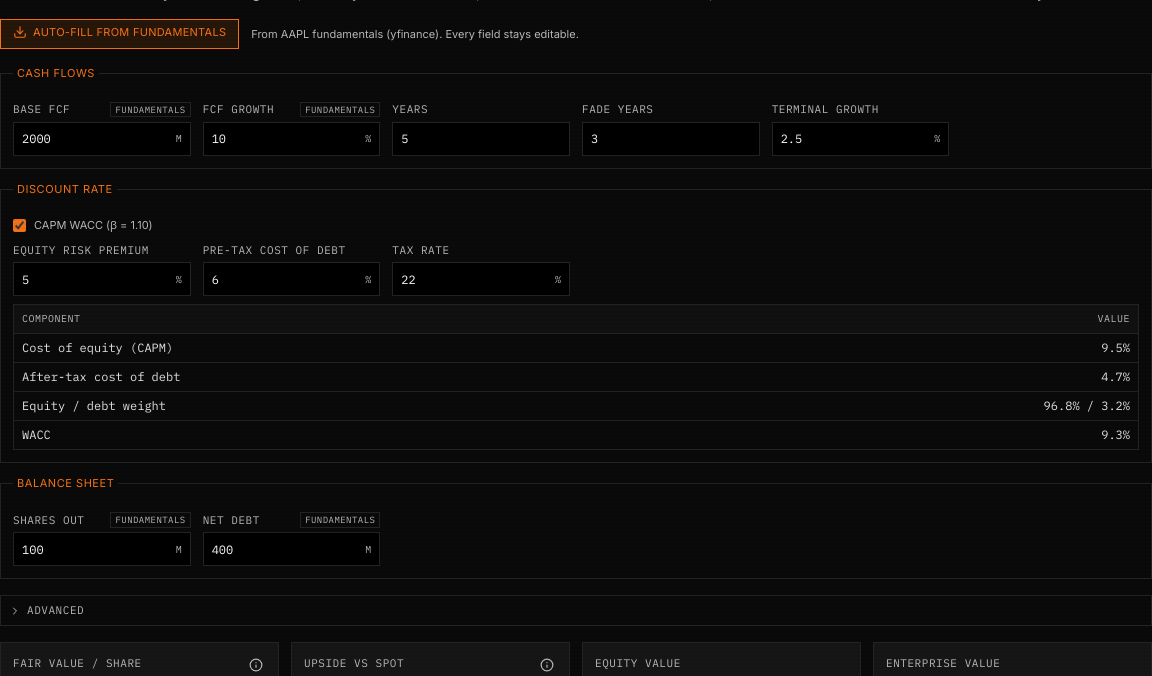
Test: ValuationSection › warns when the terminal value dominates
Expected: the text "Fair Value / Share" is shown, [13, 655, 142, 671]
Replace the text in the number field labelled "Years" with "1" at point(481, 139), box [393, 123, 569, 155]
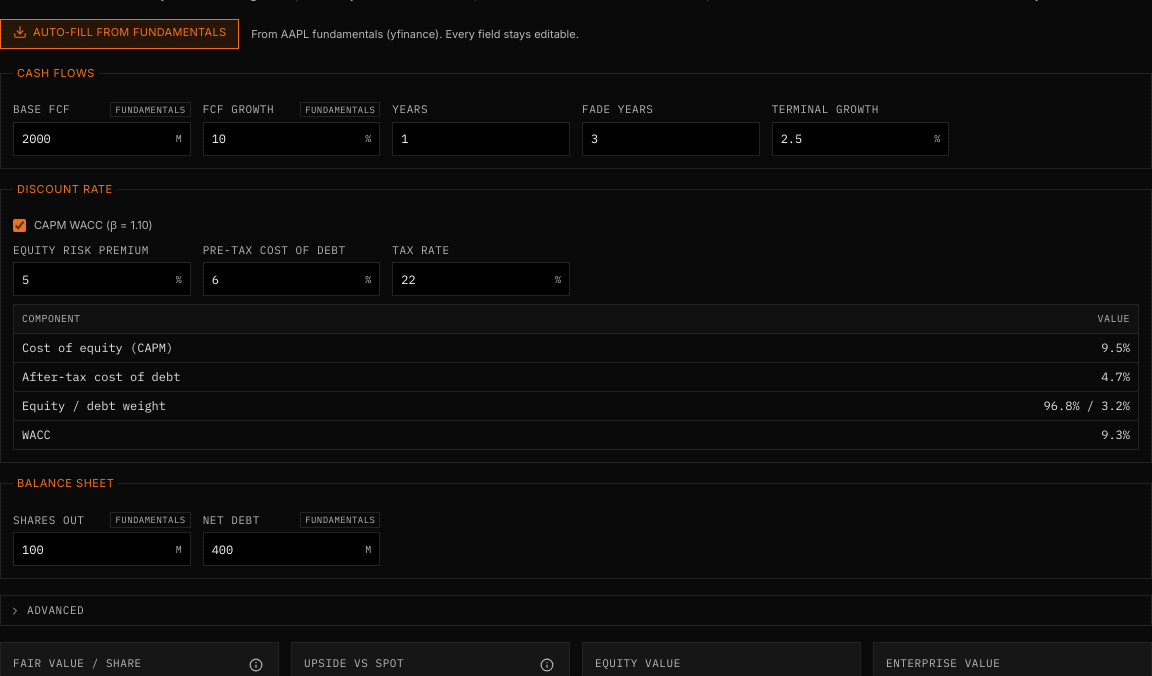
Replace the text in the number field labelled "Fade years" with "0" at point(671, 139), box [583, 123, 759, 155]
(page scrolled)
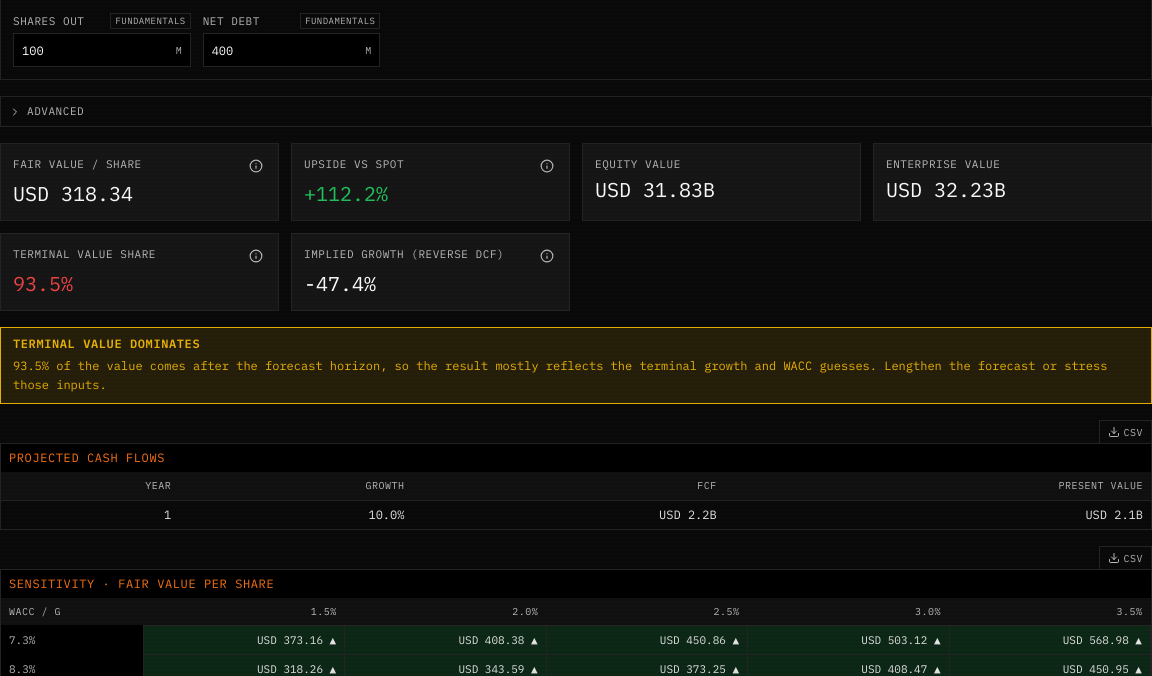
Expected: the text "Terminal value dominates" is shown, [13, 336, 200, 351]
